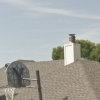Chimney: (55, 26, 83, 73)
